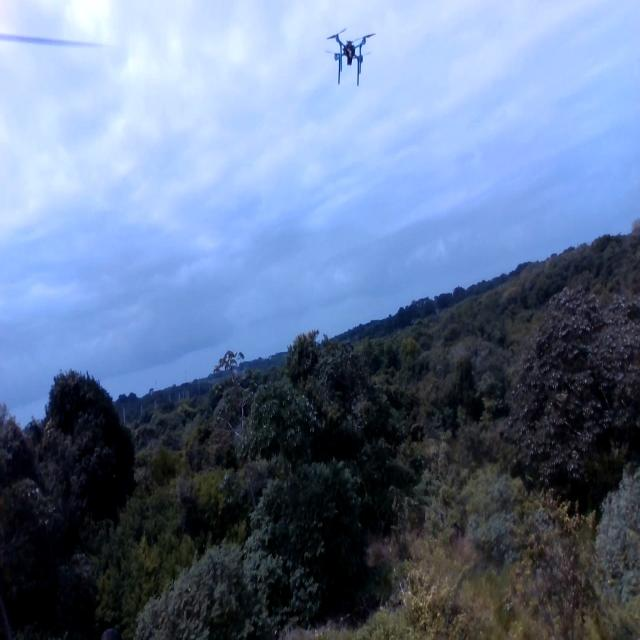-uav-: (320, 19, 381, 97)
